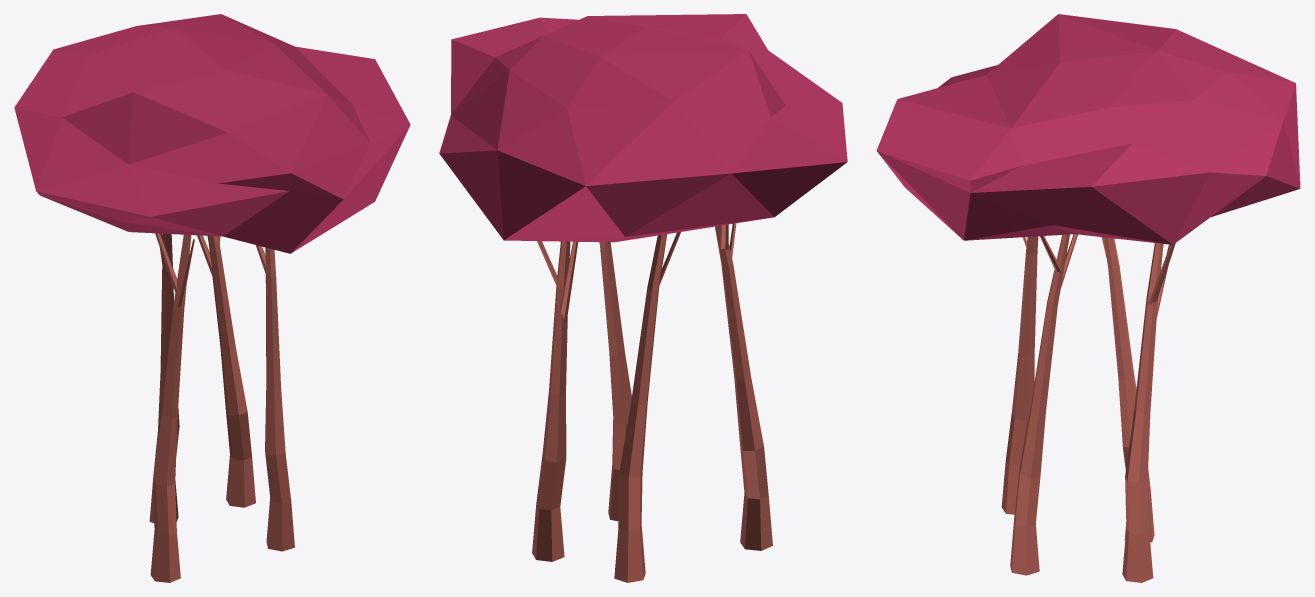
Rendered from Bush1_autumn.FBX.
3 views of the same model, side by side, from view 1: azimuth 30°, elevation 25°; view 2: azimuth 150°, elevation 25°; view 3: azimuth 270°, elevation 25° (orthographic). The views are drawn at different scales.
Parts seen in each view (by area): view 1: bush.003; view 2: bush.003; view 3: bush.003.
Boxes of the visible parts, x1,y1,x2,y2 form: bush.003: (14, 14, 410, 582); bush.003: (439, 14, 847, 582); bush.003: (876, 14, 1300, 582).
Size of the model in its own units: 1.46 by 1.9 by 1.47.
